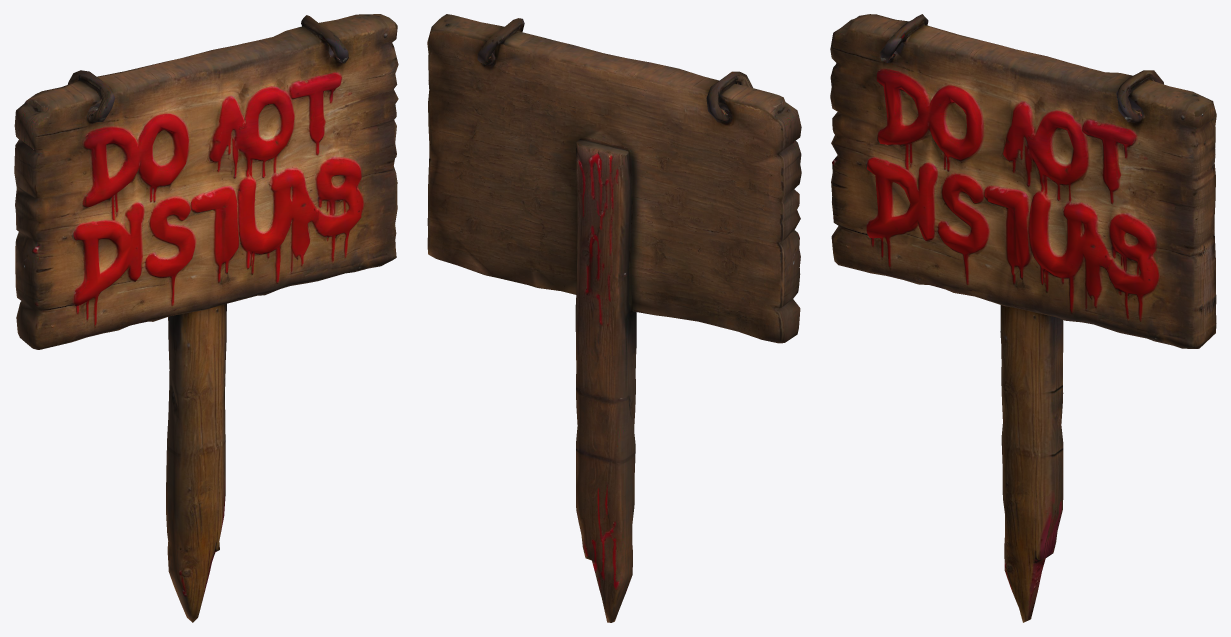
Rendered from sign.glb.
3 renders of one model, left to right at view 1: azimuth 30°, elevation 25°; view 2: azimuth 150°, elevation 25°; view 3: azimuth 330°, elevation 25°, orthographic. The views are drawn at different scales.
Visible parts, largest first — view 1: Mesh1.0; view 2: Mesh1.0; view 3: Mesh1.0.
Part boxes in pixels (x1,y1,x2,y2): Mesh1.0: (14,14,398,622); Mesh1.0: (427,14,801,622); Mesh1.0: (830,14,1216,622).
Size of the model in its own units: 1.27 by 1.91 by 0.2353.
1 material, 1 textured.
